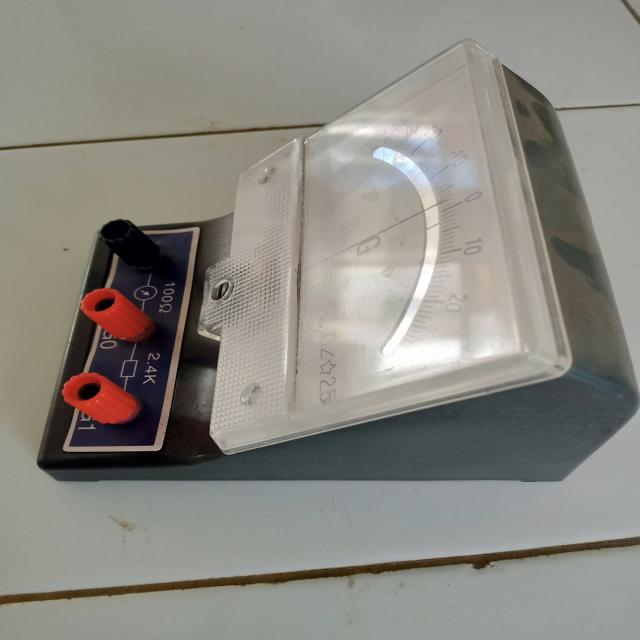Galvanometer: (6, 36, 639, 512)
